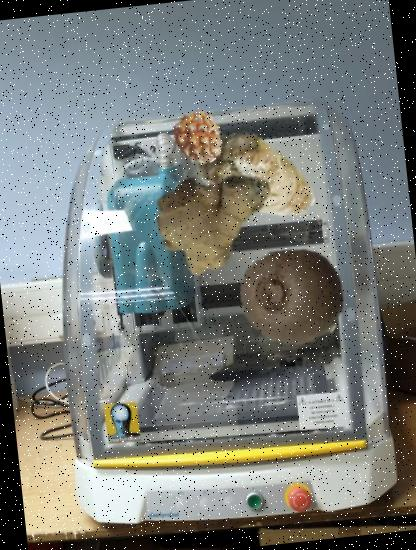Ginger: (189, 106, 326, 244), (149, 149, 285, 286)
Kiwi: (234, 236, 352, 354)
Pineapple: (166, 108, 228, 170)
